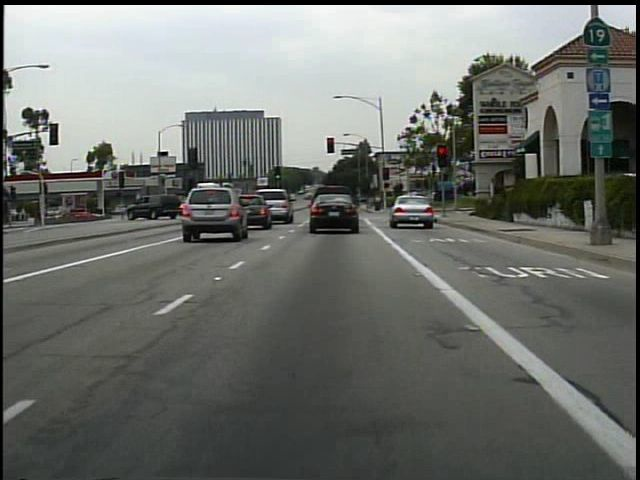person: (372, 193, 385, 213)
